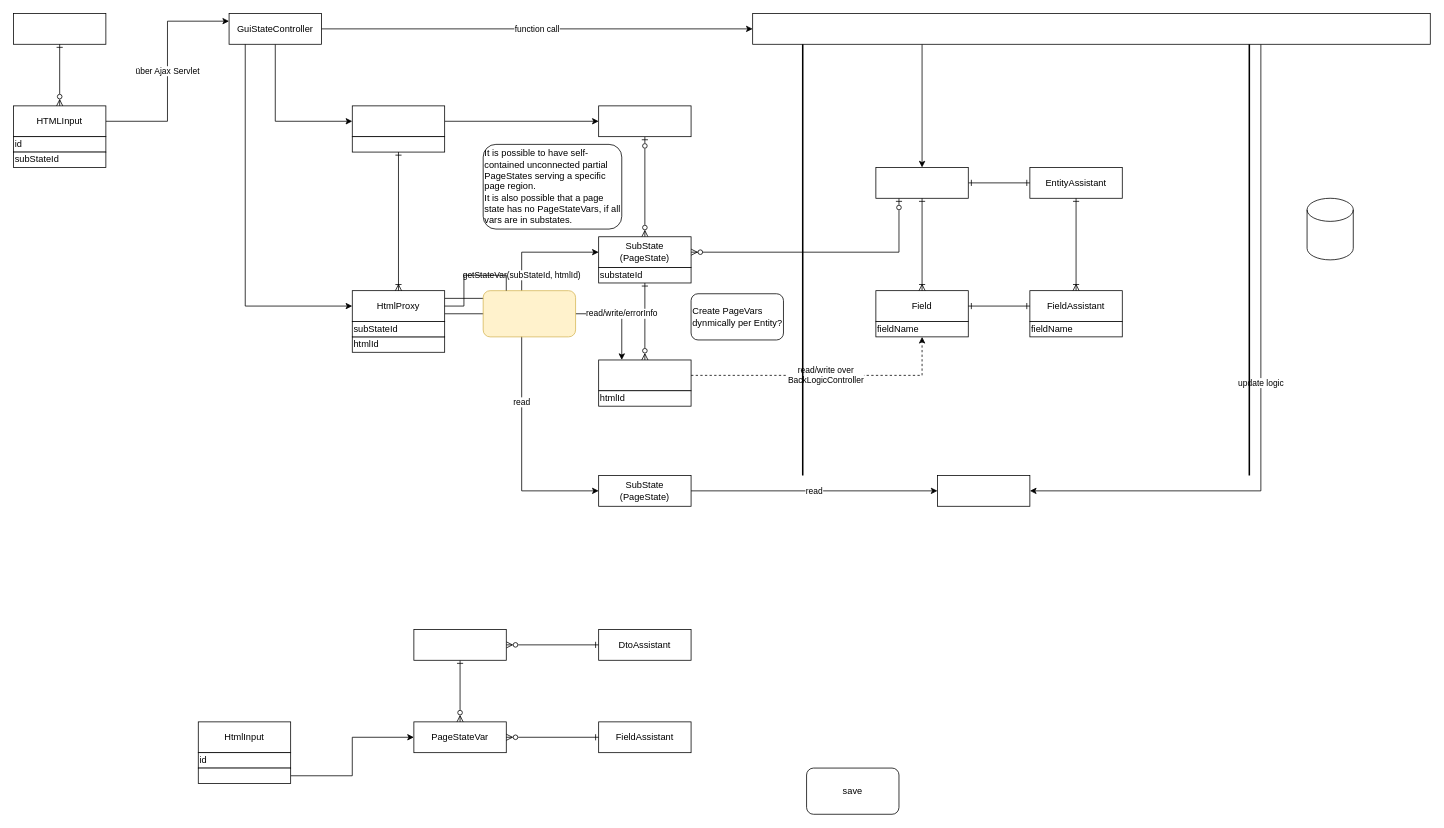
Some shapes in this 1444 by 828 pixel diagram are drawn without their labels. The shapes that lost their labels are listed below. From the top down, each one's centre as x and y in pixels, then its label:
At [59,28]: "Page".
At [1091,28]: "BackLogicController".
At [398,121]: "HtmlPage (HtmlProxy)".
At [644,121]: "PageState".
At [398,144]: "pageName".
At [921,182]: "Entity or HelperObject".
At [529,313]: "hard link to state".
At [644,375]: "PageVar".
At [983,490]: "BackLogic".
At [459,644]: "EntityPageVars".
At [244,775]: "--> PageStateVar".
